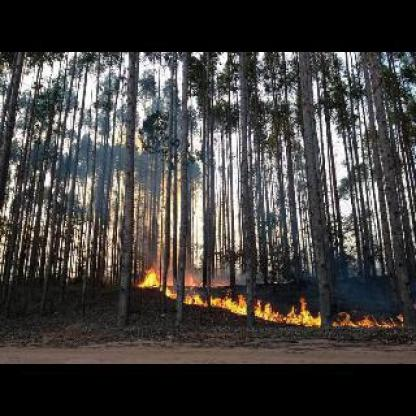fire: (260, 298, 320, 326), (334, 308, 402, 332), (129, 265, 177, 298), (210, 291, 249, 317), (181, 292, 207, 305)
